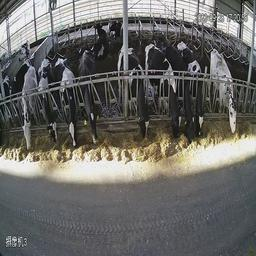cow: (115, 43, 150, 136), (149, 52, 182, 136), (211, 48, 238, 135), (60, 52, 80, 147), (38, 56, 60, 142), (22, 65, 38, 154), (82, 50, 95, 145), (181, 51, 194, 145), (194, 54, 207, 137), (91, 21, 107, 58), (15, 38, 30, 63), (109, 16, 122, 38)
